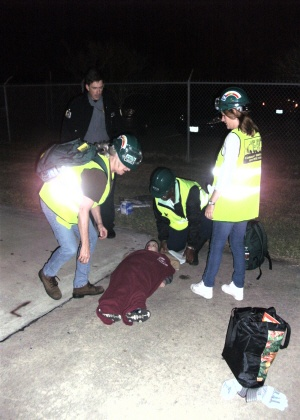helmet: (114, 133, 142, 170), (147, 167, 177, 200), (214, 89, 250, 114)
person with full safety: (35, 137, 133, 291), (201, 88, 269, 306), (152, 169, 211, 268)
person without safety: (106, 237, 172, 326), (65, 77, 118, 144)
safety vest: (211, 128, 267, 226), (43, 146, 111, 221), (158, 181, 205, 229)
